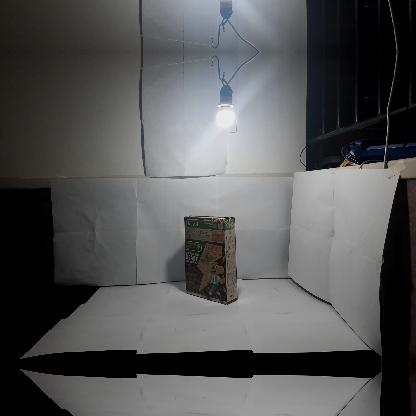Koko-Krunch: (184, 215, 236, 305)
